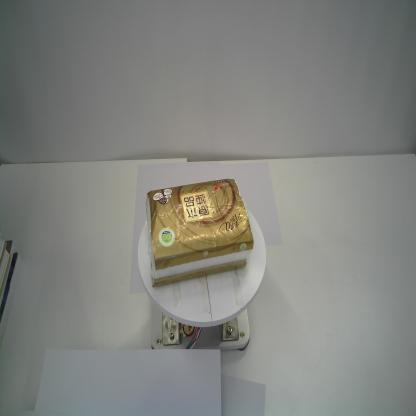Tissue: (146, 178, 253, 288)
